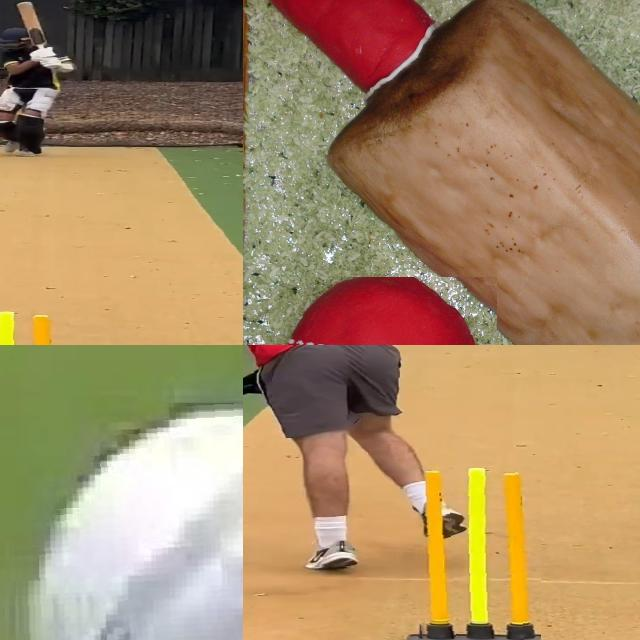Cricket ball: (11, 403, 243, 640), (265, 277, 497, 345)
Stumps: (413, 467, 541, 640)
